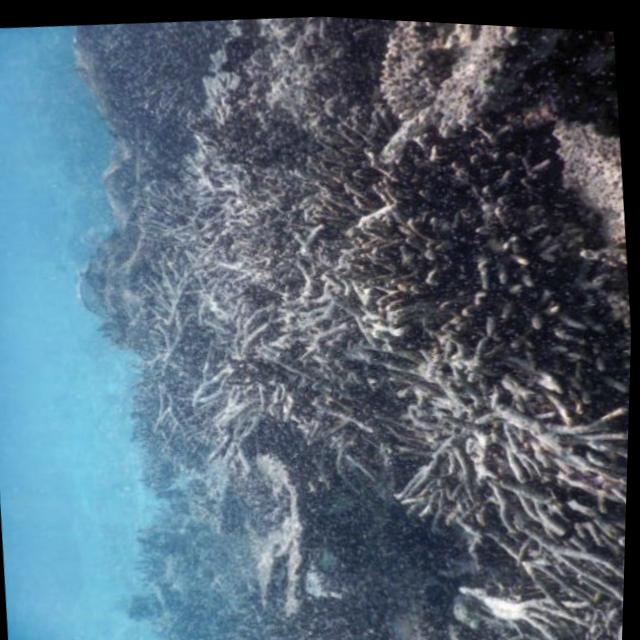Dead Coral: (108, 134, 399, 469), (377, 372, 632, 640), (98, 14, 214, 136), (448, 111, 563, 230), (357, 15, 457, 107)
